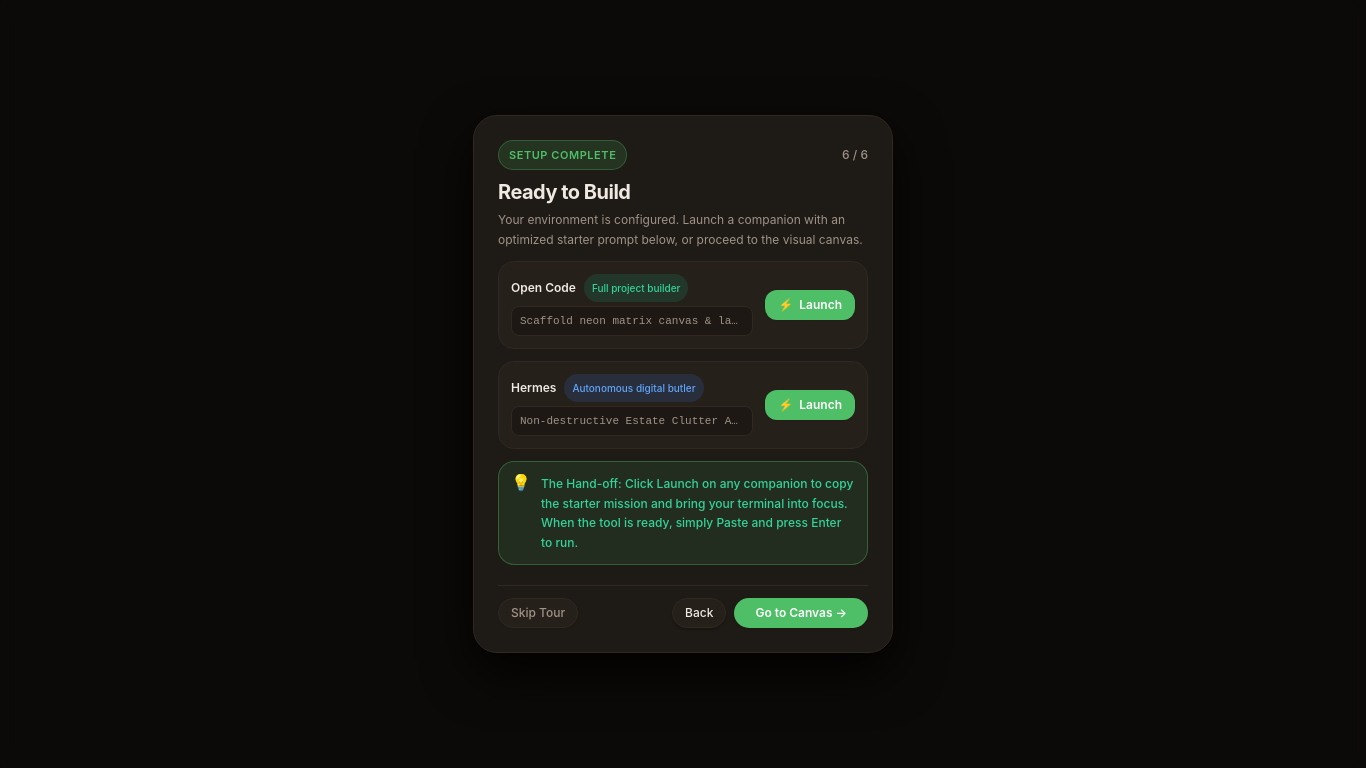
it: OnboardingOverlay Component › updates callout box copy from pre-click default to post-click confirmation upon launching
The width and height of the screenshot is (1366, 768).
expect the element with test id "handoff-callout-box" shows "Click Launch on any companion to copy the starter mission": met, box x1=541 y1=476 x2=853 y2=550
expect the element with test id "handoff-callout-box" does not show "Terminal open in background": met, box x1=498 y1=461 x2=868 y2=565
Click launch on OpenCode
Click the button with test id "btn-launch-opencode". click: (810, 305)
box: x1=765 y1=290 x2=855 y2=320
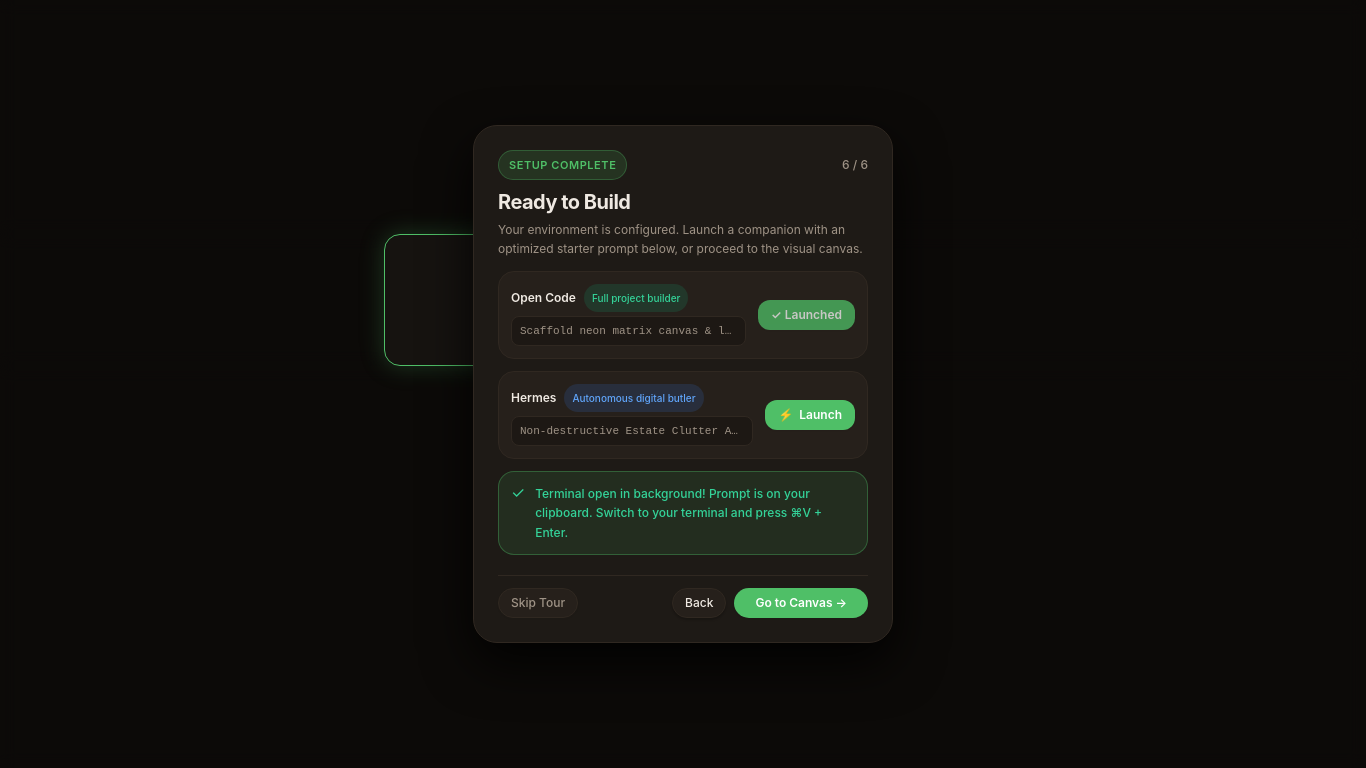
expect the element with test id "handoff-callout-box" shows "Terminal open in background! Prompt is on your clipboard. Switch to your terminal and press ⌘V + Enter.": met, box x1=535 y1=486 x2=822 y2=540
